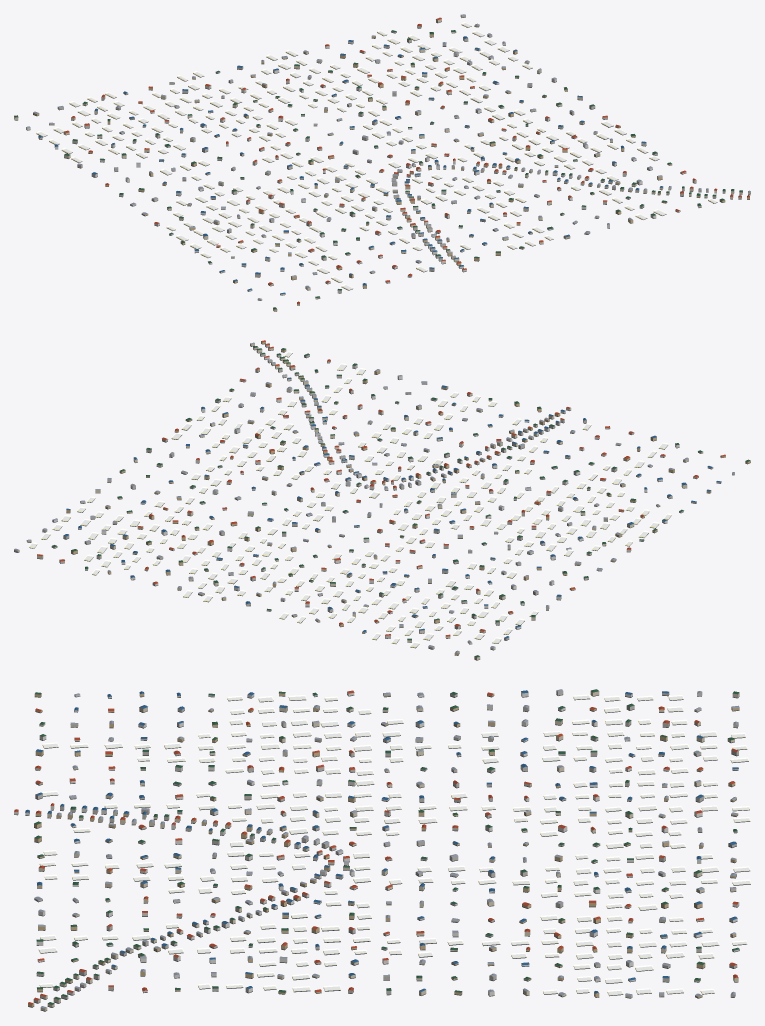
File: buildings_T_W03_N01.glb
3 views of the same model, one above another, from view 1: azimuth 30°, elevation 25°; view 2: azimuth 150°, elevation 25°; view 3: azimuth 270°, elevation 25° (orthographic). The views are drawn at different scales.
Parts seen in each view (by area): view 1: T_W03_N01_roofs_agri_greenhouse_arch, T_W03_N01_slope_seating_foundations, T_W03_N01_walls_wall_pastel_sand_gray, T_W03_N01_walls_wall_french_ochre_villa, T_W03_N01_walls_wall_modern_warm_white, T_W03_N01_walls_wall_dalat_cream_stucco, T_W03_N01_roofs_roof_zinc_silver_gable, T_W03_N01_roofs_roof_pine_green_hip, T_W03_N01_roofs_roof_terracotta_gable, T_W03_N01_roofs_roof_highland_blue_gable; view 2: T_W03_N01_roofs_agri_greenhouse_arch, T_W03_N01_slope_seating_foundations, T_W03_N01_walls_wall_pastel_sand_gray, T_W03_N01_walls_wall_french_ochre_villa, T_W03_N01_walls_wall_modern_warm_white, T_W03_N01_walls_wall_dalat_cream_stucco, T_W03_N01_roofs_roof_zinc_silver_gable, T_W03_N01_roofs_roof_pine_green_hip, T_W03_N01_roofs_roof_highland_blue_gable, T_W03_N01_roofs_roof_terracotta_gable; view 3: T_W03_N01_roofs_agri_greenhouse_arch, T_W03_N01_slope_seating_foundations, T_W03_N01_walls_wall_pastel_sand_gray, T_W03_N01_walls_wall_french_ochre_villa, T_W03_N01_walls_wall_modern_warm_white, T_W03_N01_walls_wall_dalat_cream_stucco, T_W03_N01_roofs_roof_zinc_silver_gable, T_W03_N01_roofs_roof_pine_green_hip, T_W03_N01_roofs_roof_highland_blue_gable, T_W03_N01_roofs_roof_terracotta_gable.
Boxes of the visible parts, x1=… form: T_W03_N01_roofs_agri_greenhouse_arch: x1=36, y1=22, x2=717, y2=290; T_W03_N01_slope_seating_foundations: x1=14, y1=17, x2=750, y2=311; T_W03_N01_walls_wall_pastel_sand_gray: x1=38, y1=15, x2=741, y2=283; T_W03_N01_walls_wall_french_ochre_villa: x1=33, y1=25, x2=749, y2=311; T_W03_N01_walls_wall_modern_warm_white: x1=26, y1=31, x2=716, y2=300; T_W03_N01_walls_wall_dalat_cream_stucco: x1=14, y1=19, x2=750, y2=298; T_W03_N01_roofs_roof_zinc_silver_gable: x1=26, y1=14, x2=750, y2=299; T_W03_N01_roofs_roof_pine_green_hip: x1=14, y1=30, x2=742, y2=309; T_W03_N01_roofs_roof_terracotta_gable: x1=64, y1=17, x2=749, y2=303; T_W03_N01_roofs_roof_highland_blue_gable: x1=38, y1=36, x2=662, y2=294; T_W03_N01_roofs_agri_greenhouse_arch: x1=29, y1=351, x2=671, y2=647; T_W03_N01_slope_seating_foundations: x1=14, y1=343, x2=750, y2=660; T_W03_N01_walls_wall_pastel_sand_gray: x1=14, y1=344, x2=672, y2=649; T_W03_N01_walls_wall_french_ochre_villa: x1=26, y1=341, x2=750, y2=655; T_W03_N01_walls_wall_modern_warm_white: x1=52, y1=357, x2=734, y2=649; T_W03_N01_walls_wall_dalat_cream_stucco: x1=37, y1=343, x2=703, y2=660; T_W03_N01_roofs_roof_zinc_silver_gable: x1=14, y1=342, x2=734, y2=653; T_W03_N01_roofs_roof_pine_green_hip: x1=52, y1=346, x2=750, y2=657; T_W03_N01_roofs_roof_highland_blue_gable: x1=63, y1=377, x2=721, y2=638; T_W03_N01_roofs_roof_terracotta_gable: x1=37, y1=340, x2=725, y2=636; T_W03_N01_roofs_agri_greenhouse_arch: x1=38, y1=694, x2=750, y2=995; T_W03_N01_slope_seating_foundations: x1=14, y1=694, x2=750, y2=1011; T_W03_N01_walls_wall_pastel_sand_gray: x1=33, y1=690, x2=738, y2=1002; T_W03_N01_walls_wall_french_ochre_villa: x1=28, y1=693, x2=739, y2=1007; T_W03_N01_walls_wall_modern_warm_white: x1=14, y1=691, x2=739, y2=997; T_W03_N01_walls_wall_dalat_cream_stucco: x1=38, y1=691, x2=739, y2=1010; T_W03_N01_roofs_roof_zinc_silver_gable: x1=34, y1=689, x2=739, y2=1008; T_W03_N01_roofs_roof_pine_green_hip: x1=34, y1=689, x2=739, y2=1004; T_W03_N01_roofs_roof_highland_blue_gable: x1=25, y1=690, x2=738, y2=993; T_W03_N01_roofs_roof_terracotta_gable: x1=14, y1=690, x2=738, y2=1004.
Bounding box in the file's own units: 1854 × 37.65 × 1829.
